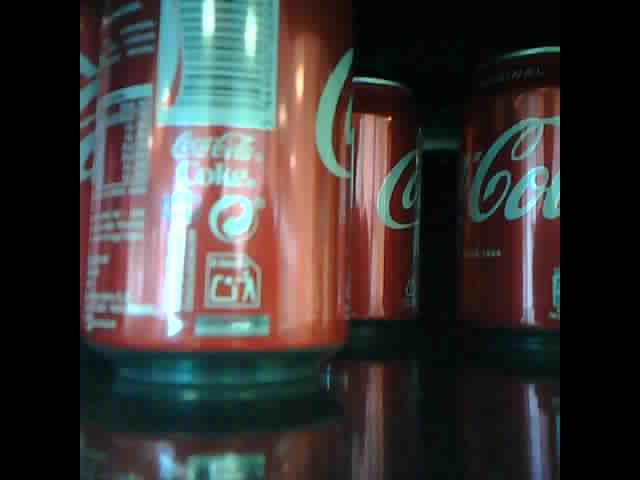coca cola: (76, 1, 355, 410), (459, 31, 560, 354), (351, 71, 423, 330)
